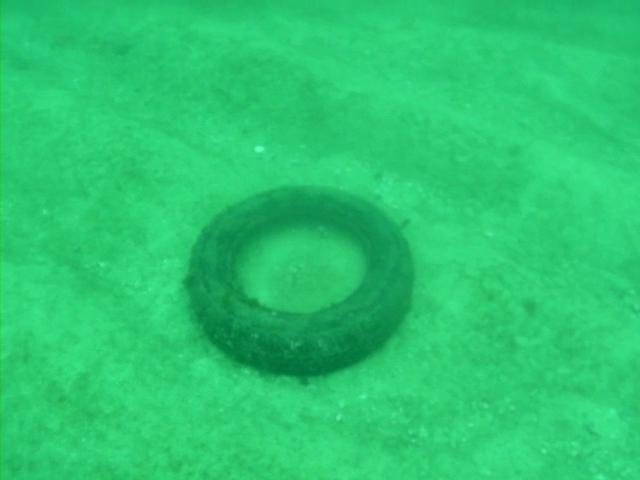tire: (187, 184, 414, 377)
